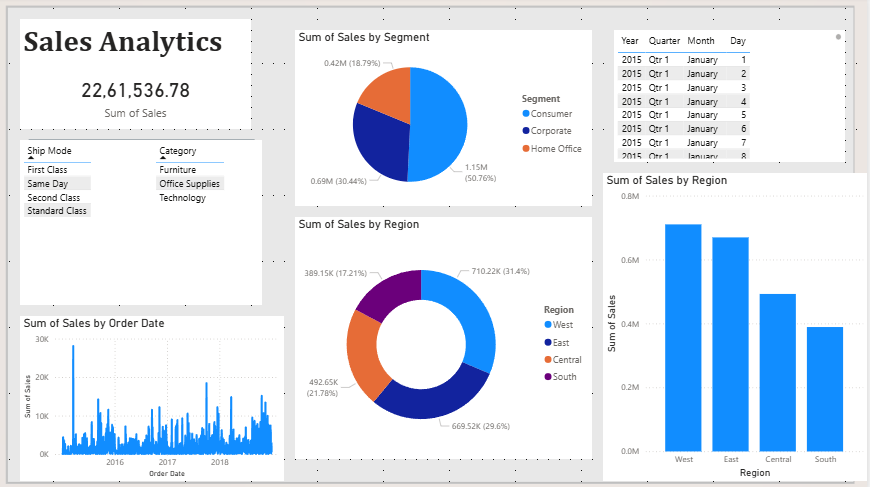

The dashboard page shown, as its layout file describes it:
{"tool":"powerbi","page":{"name":"Page 2","canvas":[1280,720],"ordinal":1},"visuals":[{"type":"pieChart","fields":{"Category":["train.Segment"],"Y":["Sum(train.Sales)"]},"box":[448,48,432,256],"z":0},{"type":"card","fields":{"Values":["Sum(train.Sales)"]},"box":[48,96,336,96],"z":1000},{"type":"lineChart","fields":{"Category":["train.Order Date"],"Y":["Sum(train.Sales)"]},"box":[48,464,384,240],"z":2000},{"type":"clusteredColumnChart","fields":{"Category":["train.Region"],"Y":["Sum(train.Sales)"]},"box":[896,256,384,448],"z":3000},{"type":"tableEx","fields":{"Values":["train.Category"]},"box":[240,208,160,240],"z":4000},{"type":"tableEx","fields":{"Values":["train.Ship Mode"]},"box":[48,208,192,240],"z":5000},{"type":"donutChart","fields":{"Category":["train.Region"],"Y":["Sum(train.Sales)"]},"box":[448,320,432,352],"z":6000},{"type":"tableEx","fields":{"Values":["train.Ship Date.Variation.Date Hierarchy.Year","train.Ship Date.Variation.Date Hierarchy.Quarter","train.Ship Date.Variation.Date Hierarchy.Month","train.Ship Date.Variation.Date Hierarchy.Day"]},"box":[912,48,336,192],"z":7000},{"type":"textbox","box":[48,32,336,64],"z":8000}]}

Visuals, with their boxes in screenshot pixels (x1, y1, x2, y2), scaled from the page's 1280x720 canvas onto the 870x487 screenshot:
pieChart - train.Segment x Sum(train.Sales): (304,32,598,206)
card - Sum(train.Sales): (33,65,261,130)
lineChart - train.Order Date x Sum(train.Sales): (33,314,294,476)
clusteredColumnChart - train.Region x Sum(train.Sales): (609,173,869,476)
tableEx - train.Category: (163,141,272,303)
tableEx - train.Ship Mode: (33,141,163,303)
donutChart - train.Region x Sum(train.Sales): (304,216,598,455)
tableEx - train.Ship Date.Variation.Date Hierarchy.Year x train.Ship Date.Variation.Date Hierarchy.Quarter: (620,32,848,162)
textbox: (33,22,261,65)
